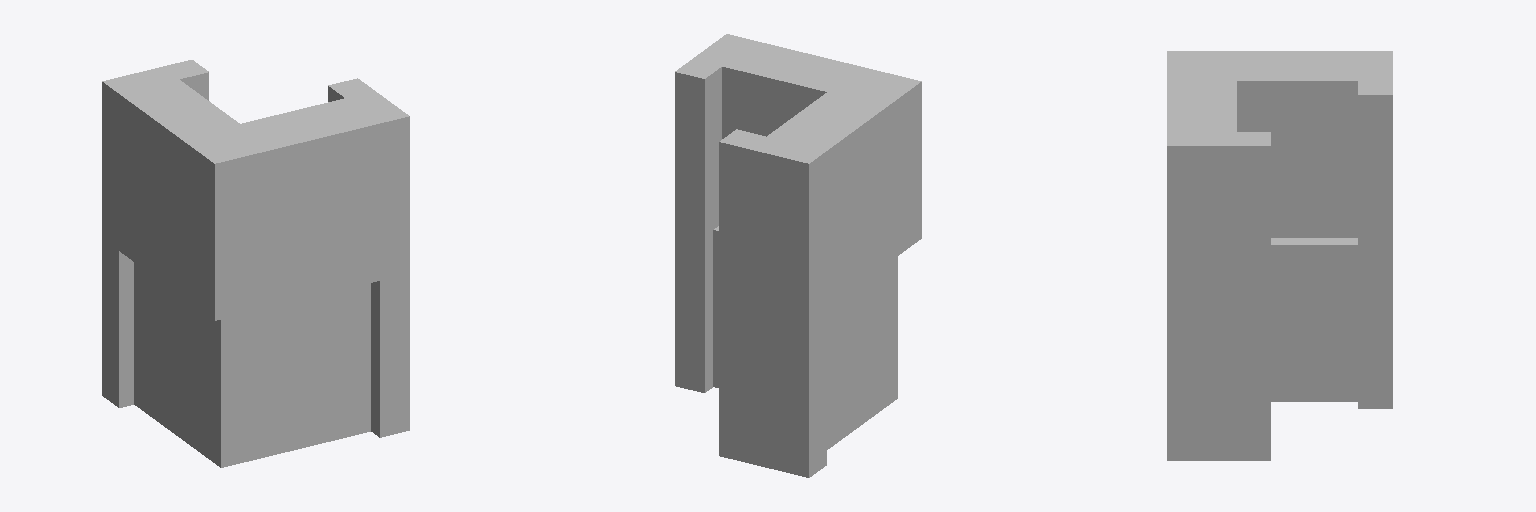
Rendered from mylandscaping_blockm_ic_b.obj.
The picture shows the model from 3 angles: view 1: azimuth 30°, elevation 25°; view 2: azimuth 150°, elevation 25°; view 3: azimuth 270°, elevation 25°; orthographic projection.
Visible parts, largest first — view 1: Madison_IC_B_Cube.032; view 2: Madison_IC_B_Cube.032; view 3: Madison_IC_B_Cube.032.
Part boxes in pixels (bbox=[...]): Madison_IC_B_Cube.032: bbox=[102, 60, 409, 467]; Madison_IC_B_Cube.032: bbox=[675, 34, 921, 477]; Madison_IC_B_Cube.032: bbox=[1167, 51, 1392, 460].
Bounding box in the file's own units: 0.65 × 1 × 0.65.